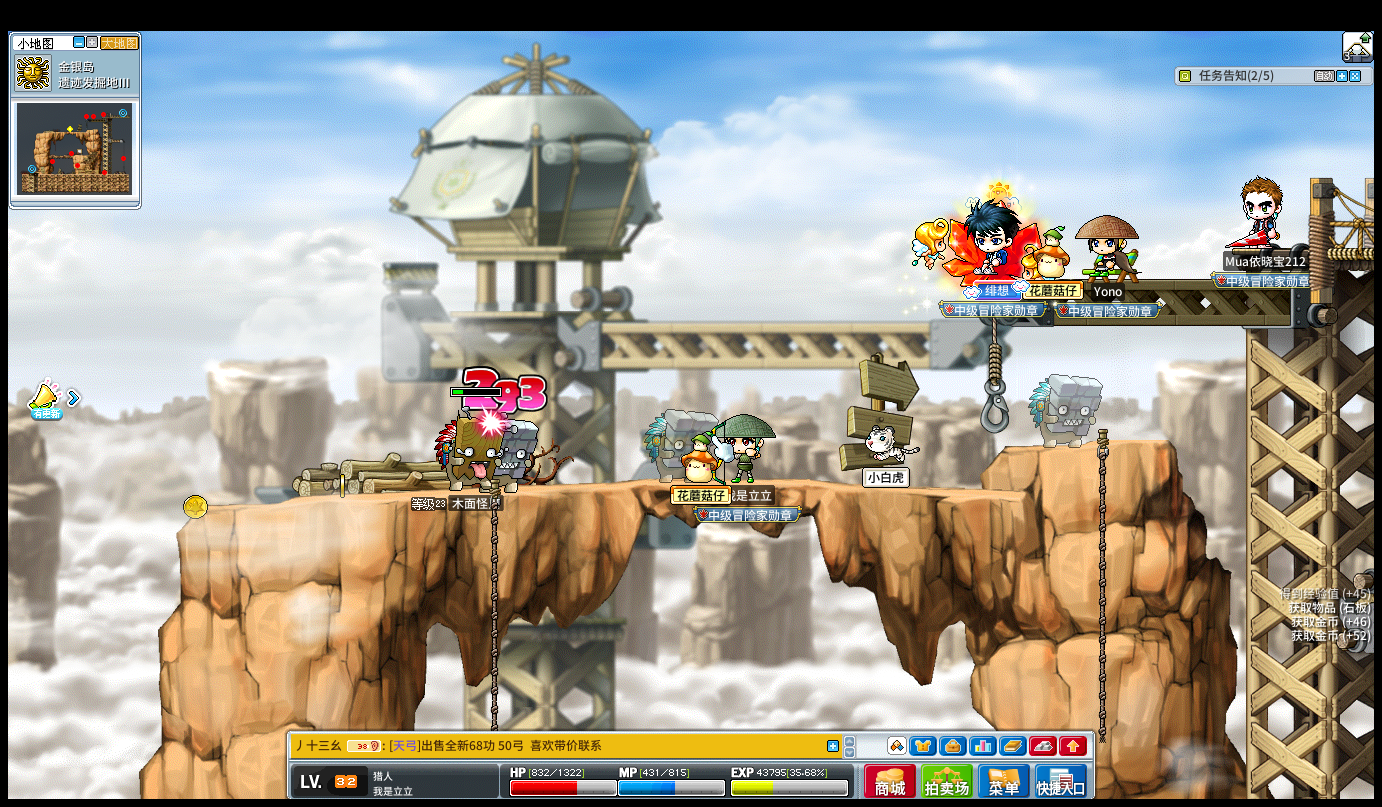floor: (174, 476, 1009, 506), (205, 476, 1062, 497), (1003, 433, 1169, 450)
monster: (434, 412, 538, 492), (1027, 373, 1102, 449), (433, 411, 504, 489), (641, 409, 696, 481), (498, 416, 539, 492)
rope: (1093, 424, 1109, 807), (1093, 429, 1108, 682), (487, 478, 499, 679)
